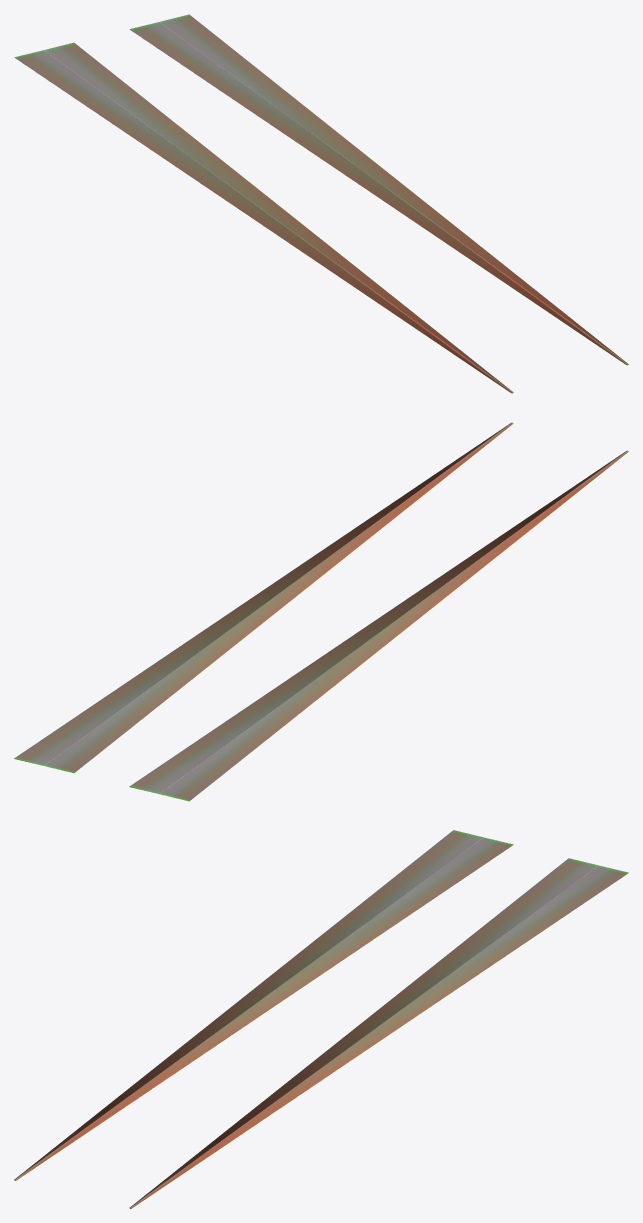
File: booster_v2.obj
3 views of the same model, one above another, from view 1: azimuth 30°, elevation 25°; view 2: azimuth 150°, elevation 25°; view 3: azimuth 330°, elevation 25° (orthographic).
Parts seen in each view (by area): view 1: Box003, Box002; view 2: Box002, Box003; view 3: Box003, Box002.
Boxes of the visible parts, x1=… form: Box003: x1=14, y1=42, x2=513, y2=393; Box002: x1=129, y1=14, x2=628, y2=365; Box002: x1=14, y1=422, x2=513, y2=773; Box003: x1=129, y1=450, x2=628, y2=801; Box003: x1=14, y1=830, x2=513, y2=1180; Box002: x1=129, y1=858, x2=628, y2=1208.
Bounding box in the file's own units: 1.67 × 0.0126 × 7.74.
1 material, 1 textured.
